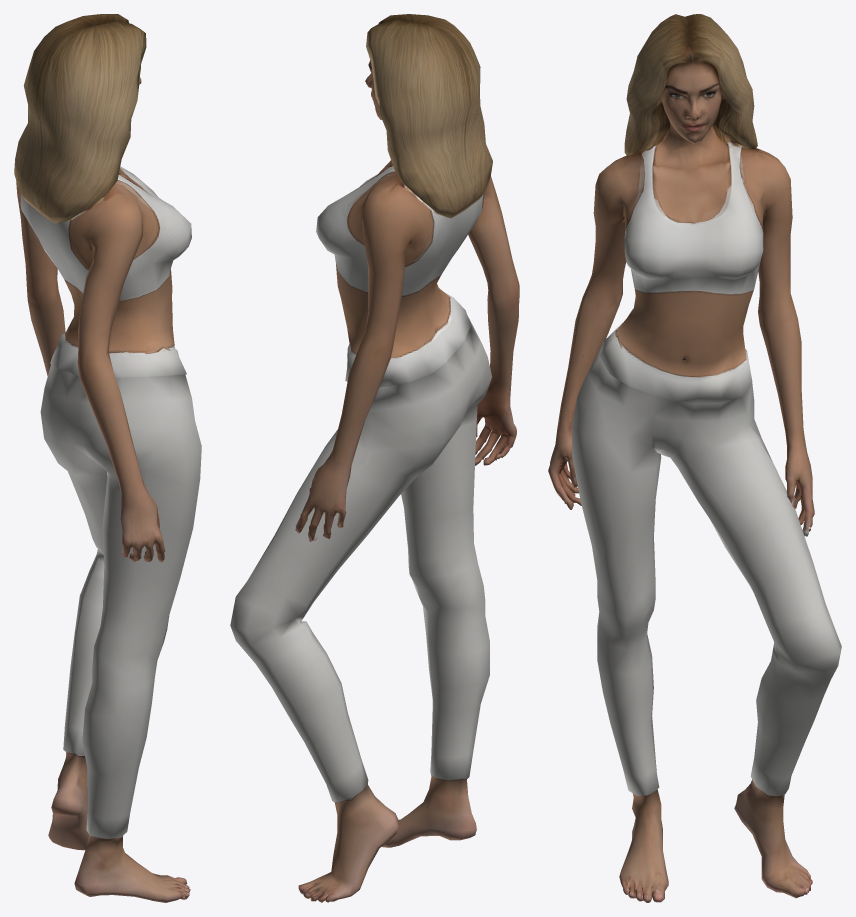
Rendered from athletic_woman.glb.
The picture shows the model from 3 angles, left to right: view 1: azimuth 30°, elevation 25°; view 2: azimuth 150°, elevation 25°; view 3: azimuth 270°, elevation 25°; orthographic projection. The views are drawn at different scales.
Parts seen in each view (by area): view 1: tripo_node_9c96e5c5-5bce-4cd3-9e13-28e973a66d48; view 2: tripo_node_9c96e5c5-5bce-4cd3-9e13-28e973a66d48; view 3: tripo_node_9c96e5c5-5bce-4cd3-9e13-28e973a66d48.
Part boxes in pixels (x1=…): tripo_node_9c96e5c5-5bce-4cd3-9e13-28e973a66d48: x1=14, y1=14, x2=201, y2=902; tripo_node_9c96e5c5-5bce-4cd3-9e13-28e973a66d48: x1=230, y1=14, x2=519, y2=902; tripo_node_9c96e5c5-5bce-4cd3-9e13-28e973a66d48: x1=548, y1=14, x2=841, y2=902.
Bounding box in the file's own units: 0.2129 × 0.998 × 0.3145.
1 material, 1 textured.
